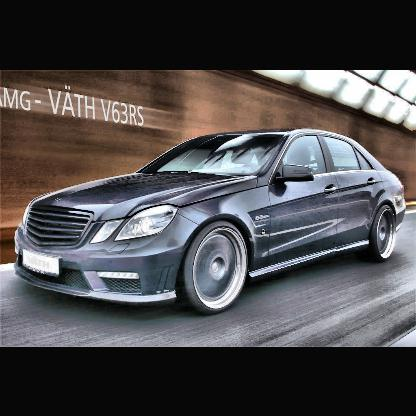Mercedes-Benz E-Class Sedan 2012: (13, 126, 407, 314)
